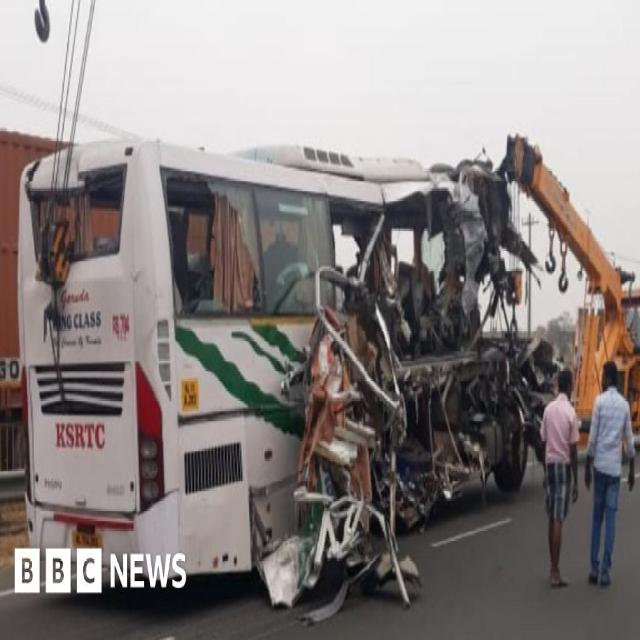accident: (19, 140, 550, 604)
truck: (500, 136, 640, 432)
